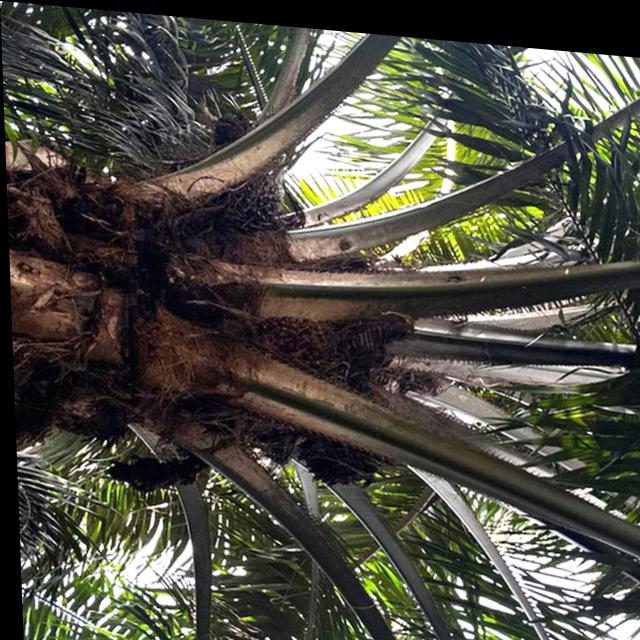ripe: (243, 291, 364, 388)
